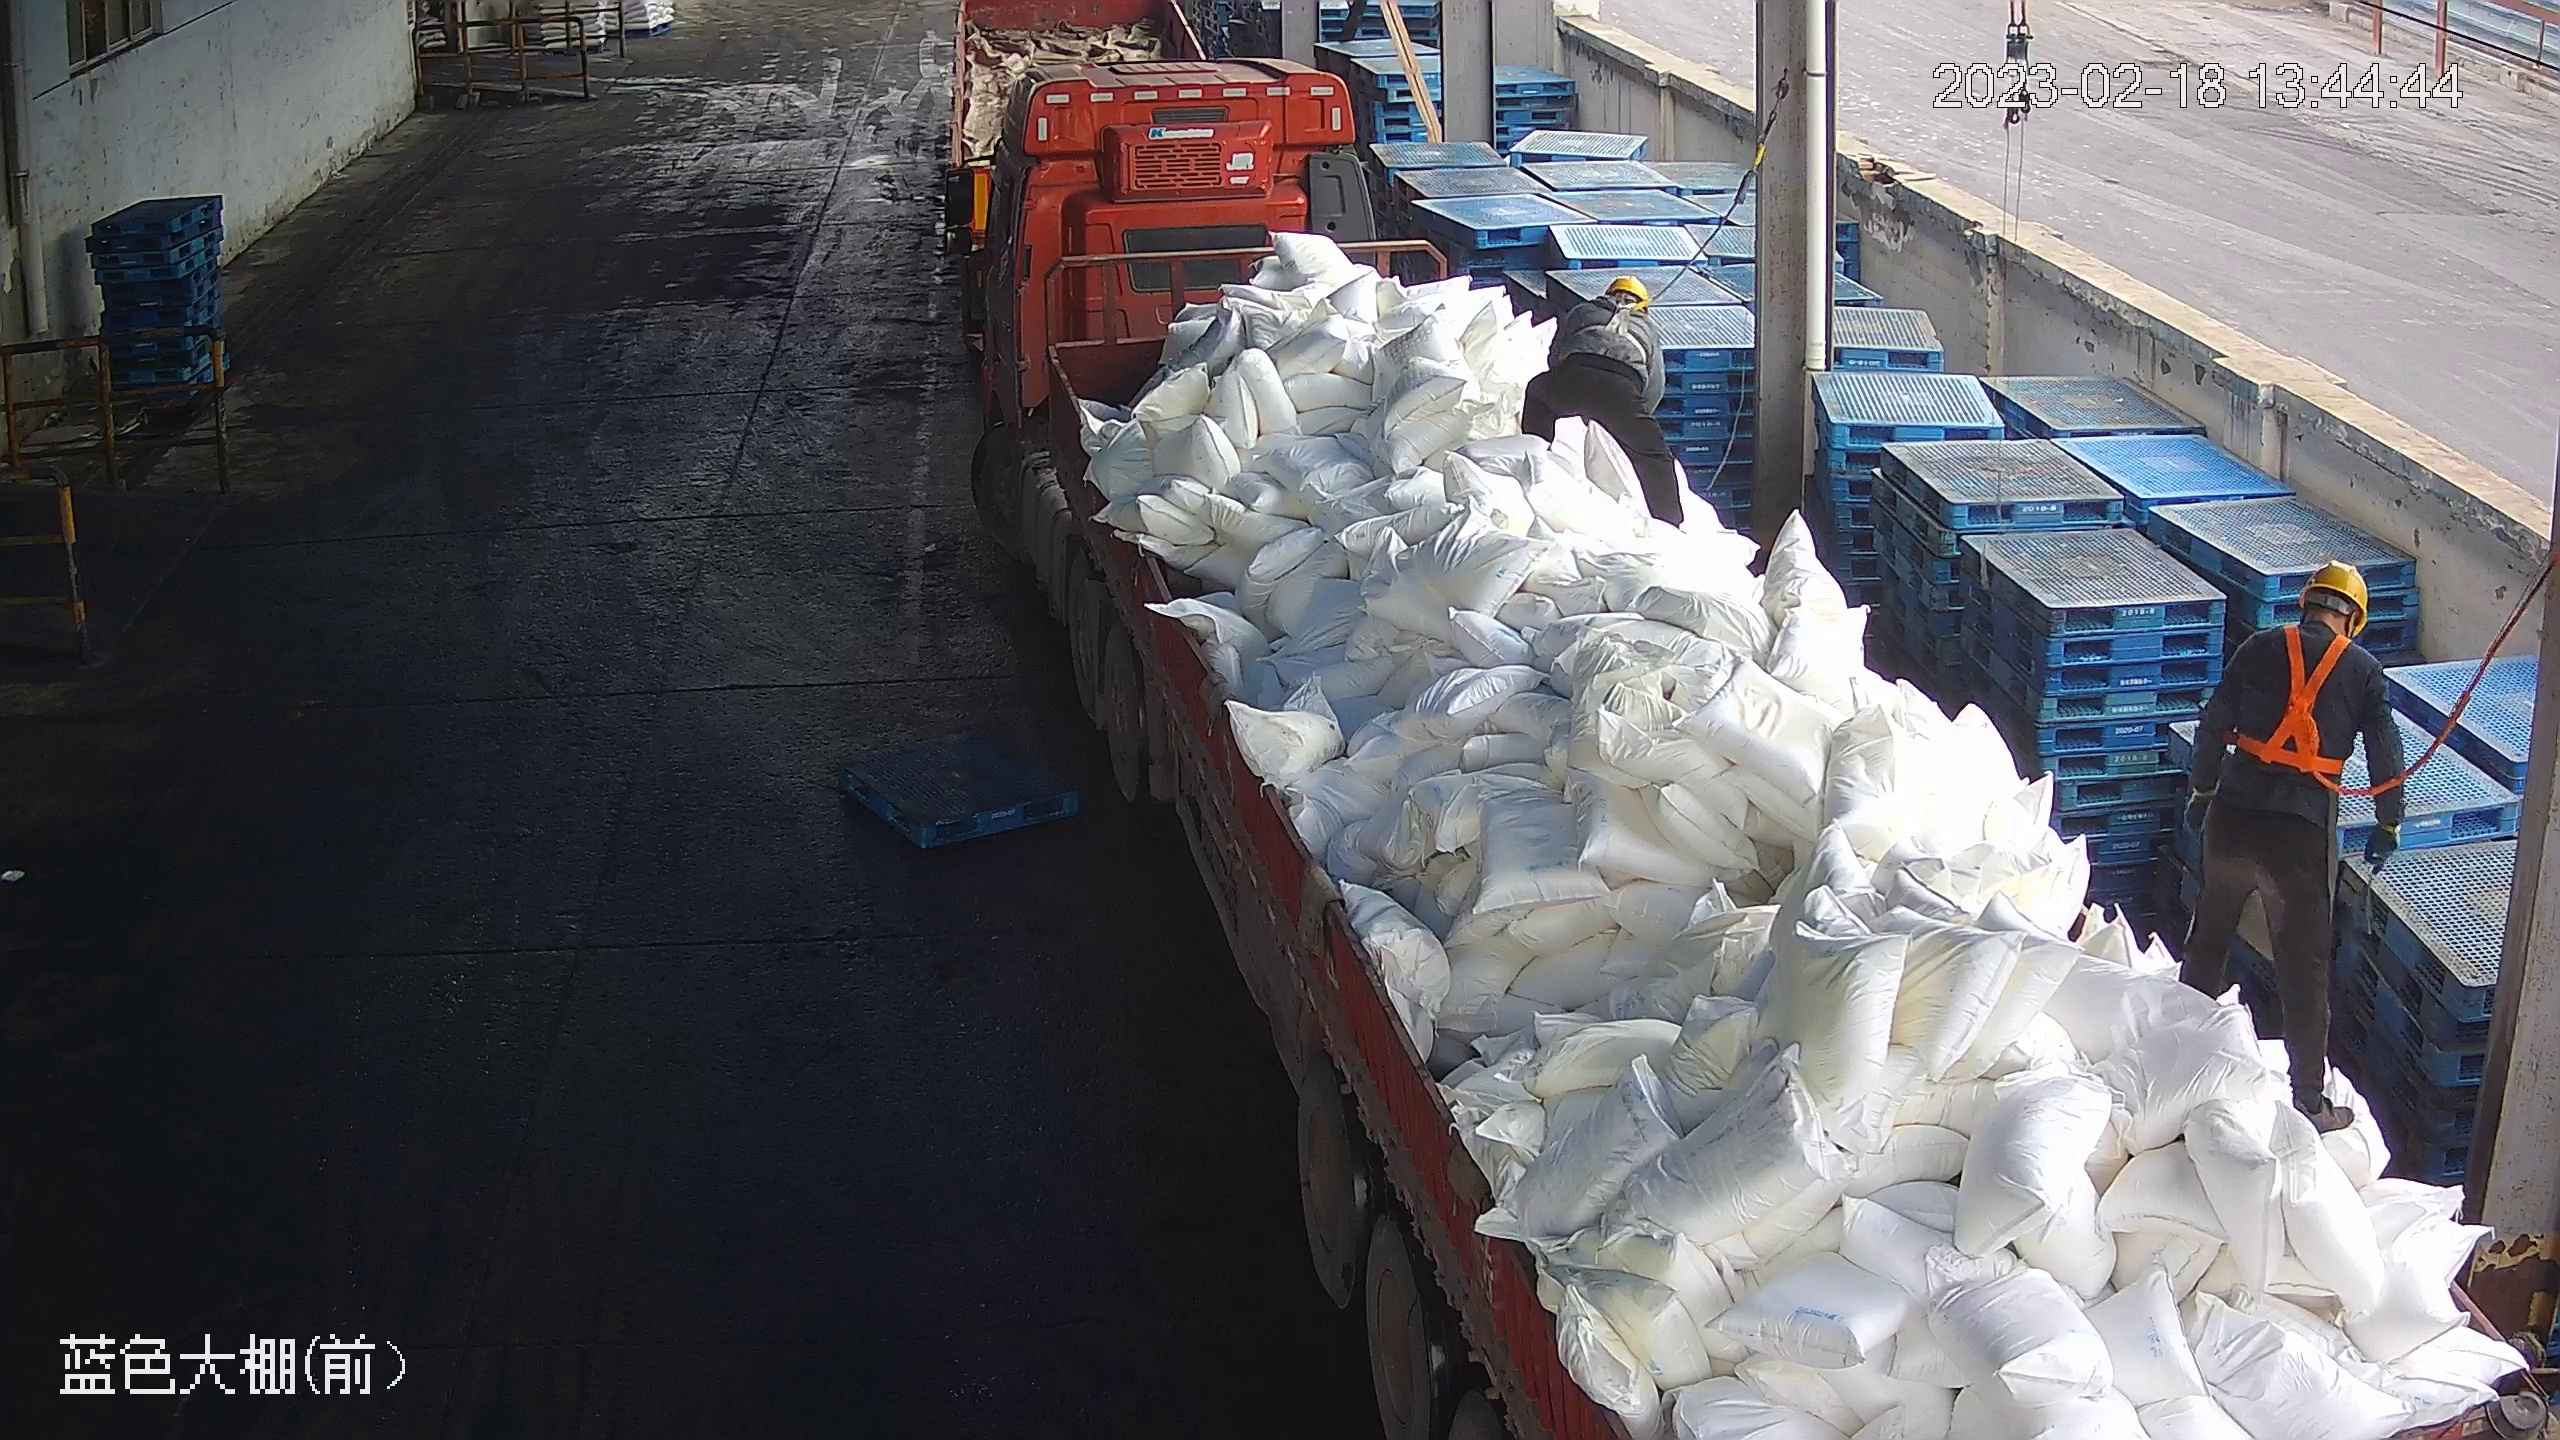belt: (2220, 620, 2376, 781), (1585, 297, 1654, 344)
head: (2208, 557, 2393, 733), (1569, 274, 1661, 370)
helmet: (2296, 555, 2370, 632), (1606, 275, 1654, 310)
people: (2179, 557, 2417, 1133), (1516, 273, 1691, 532)
truck: (939, 45, 2560, 1440)
